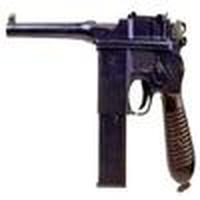gun: (6, 18, 199, 195)
